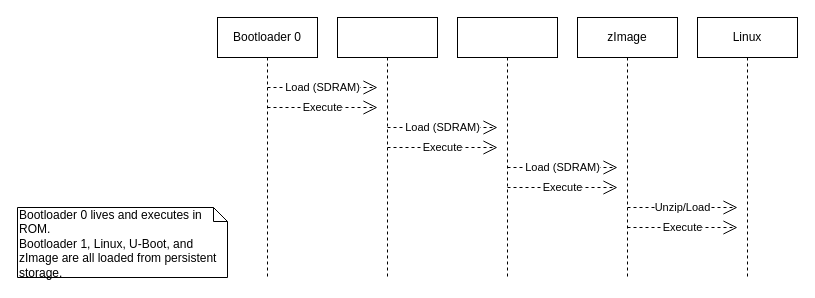
Image size: 815x298. Some labels were removed from this diagram. Each missing label, with the box of its shape:
Bootloader 1: (336, 16, 438, 278)
U-Boot: (456, 16, 558, 278)
